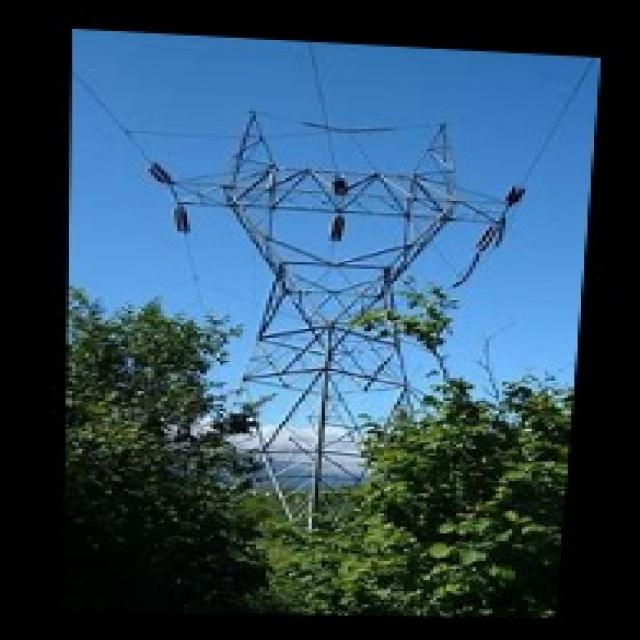utility poles: (342, 288, 541, 488), (158, 310, 294, 488)
